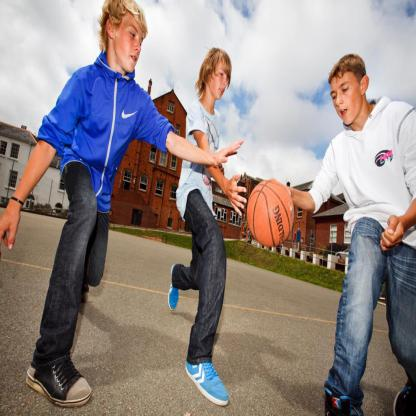face: (115, 11, 144, 74), (331, 71, 361, 126), (209, 63, 230, 101)
